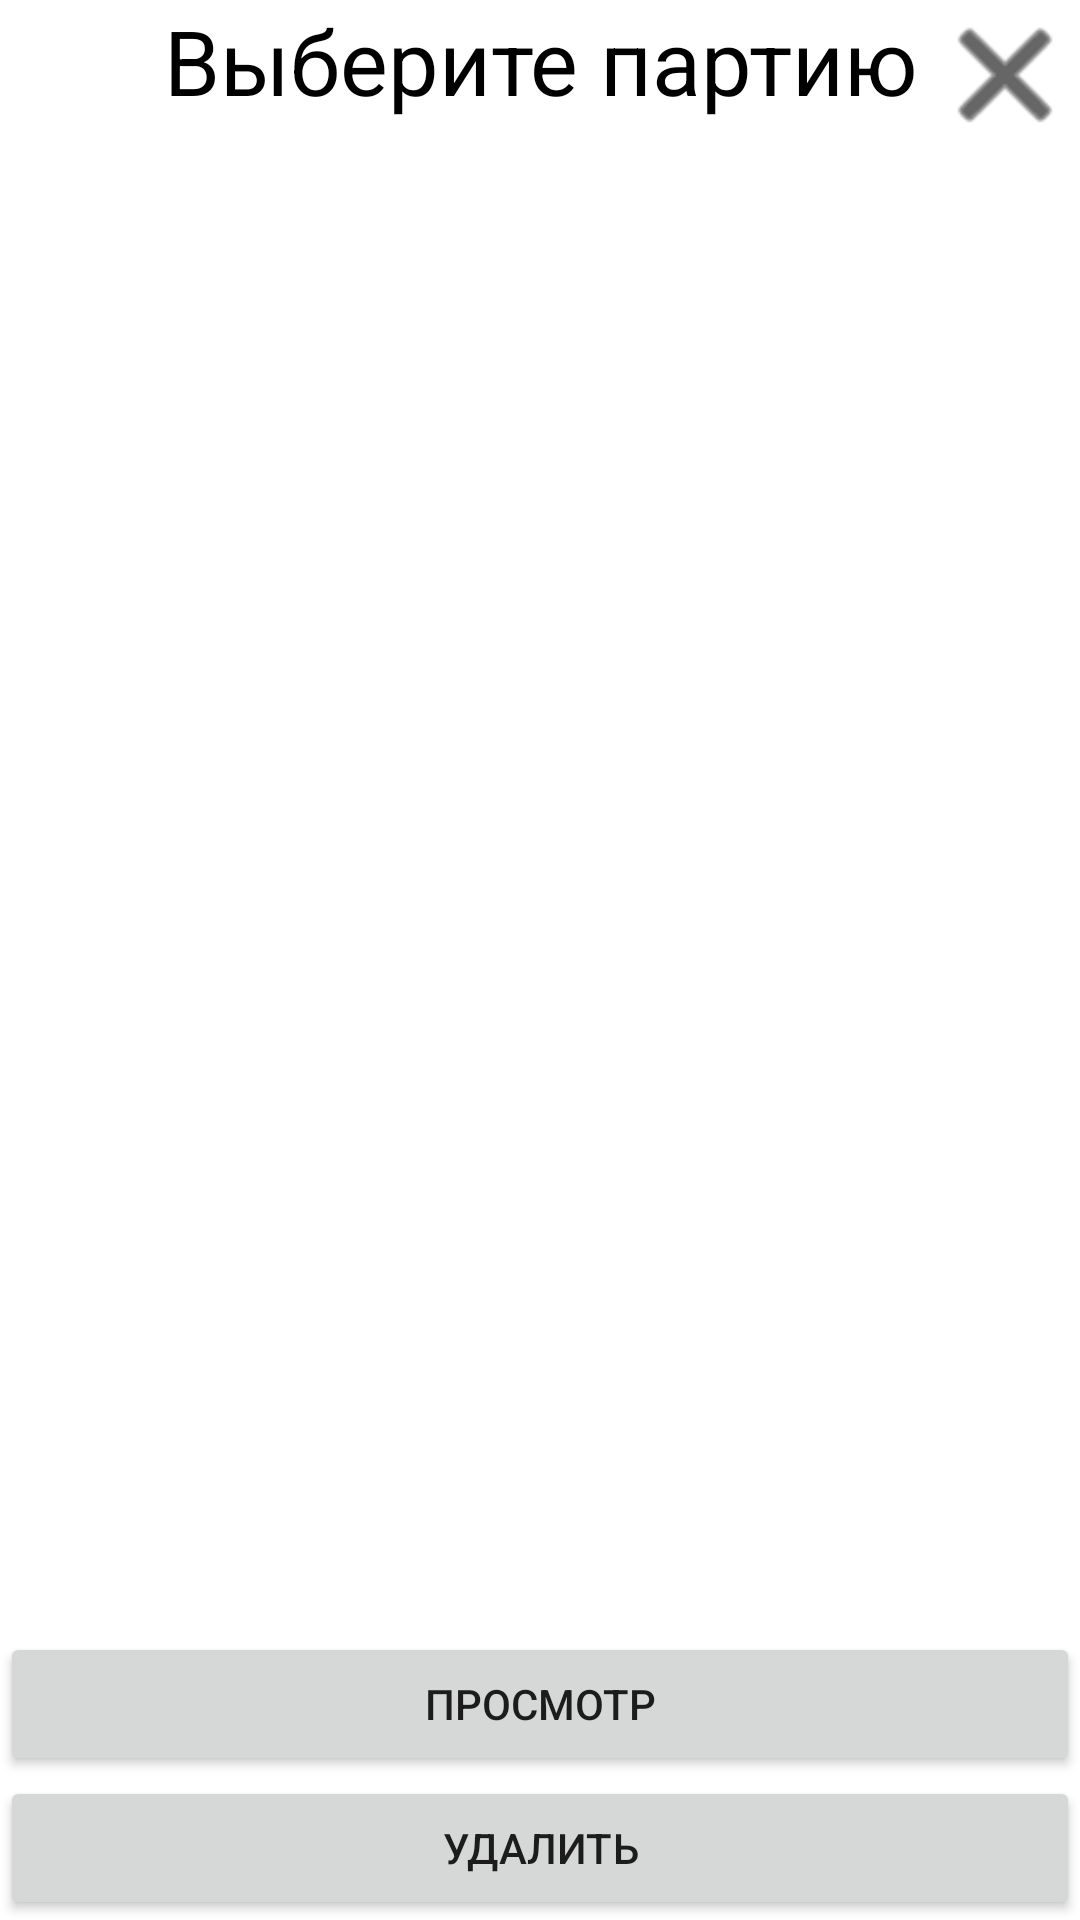

Icon click points for this 1080×1920 phone screenshot, format [x,y]:
close clear cancel: [1005,75]
